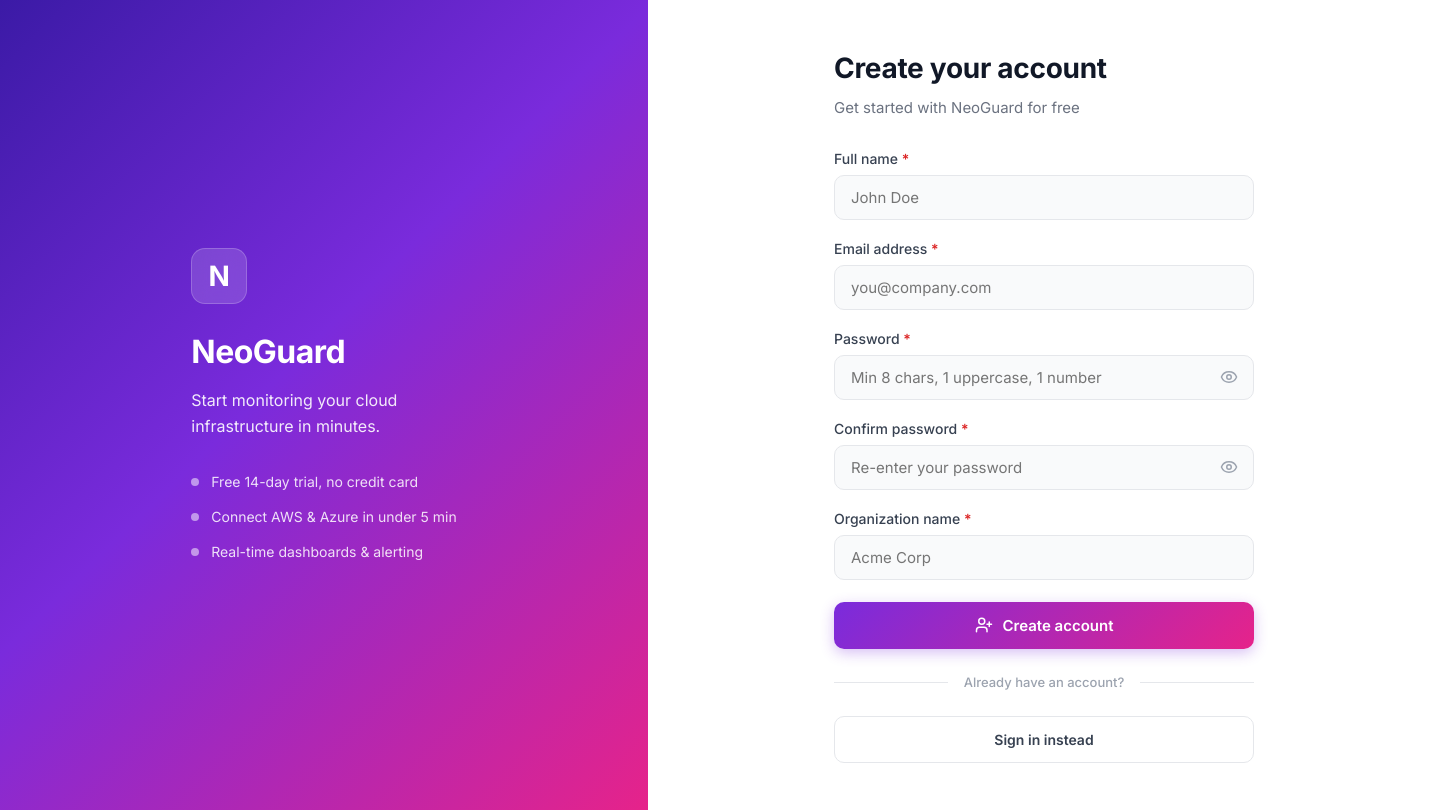
Test: SignupPage › validates required name field
Click the button "Create account" at (1044, 625), box [834, 602, 1254, 648]
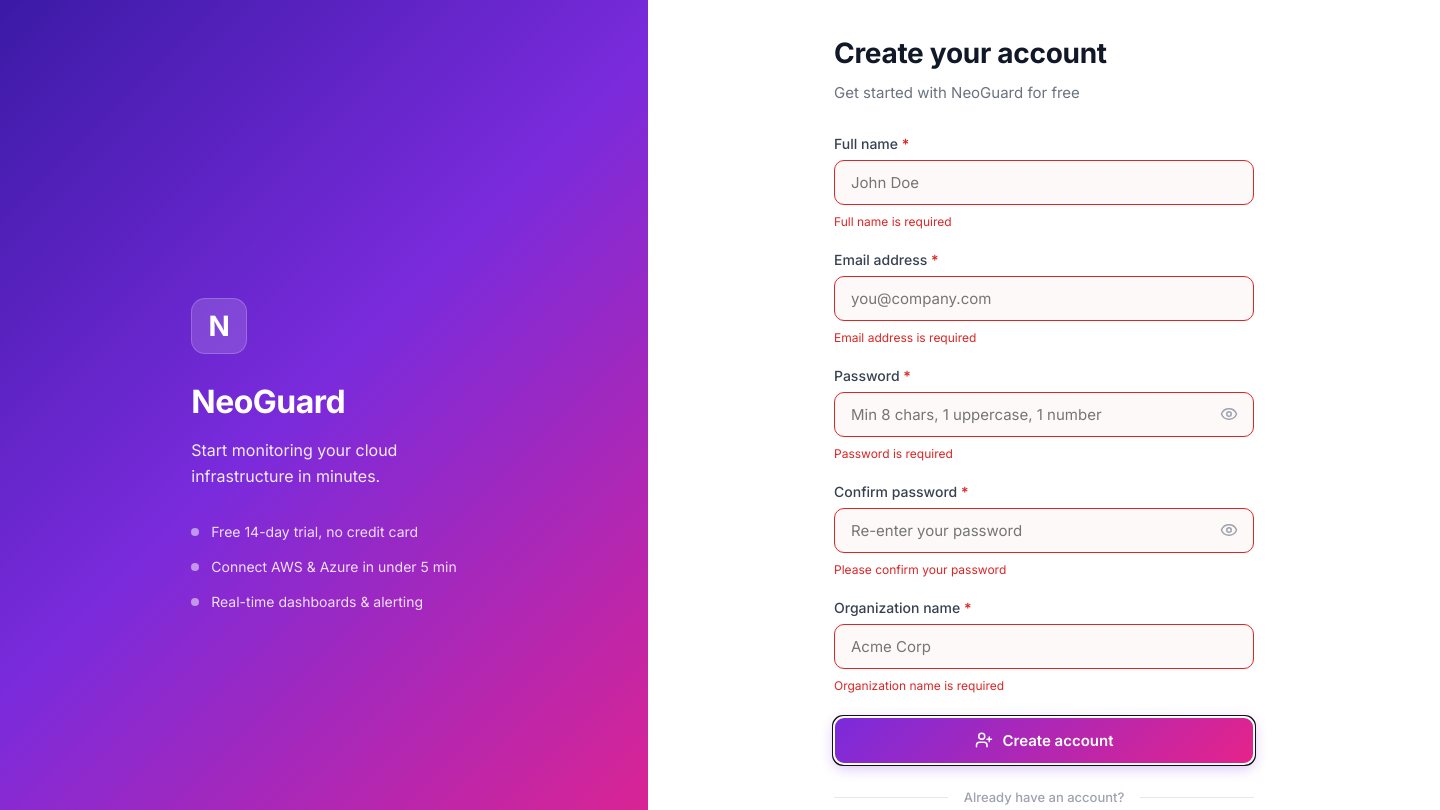
expect the text "Full name is required" is shown: met, box [834, 214, 952, 228]
